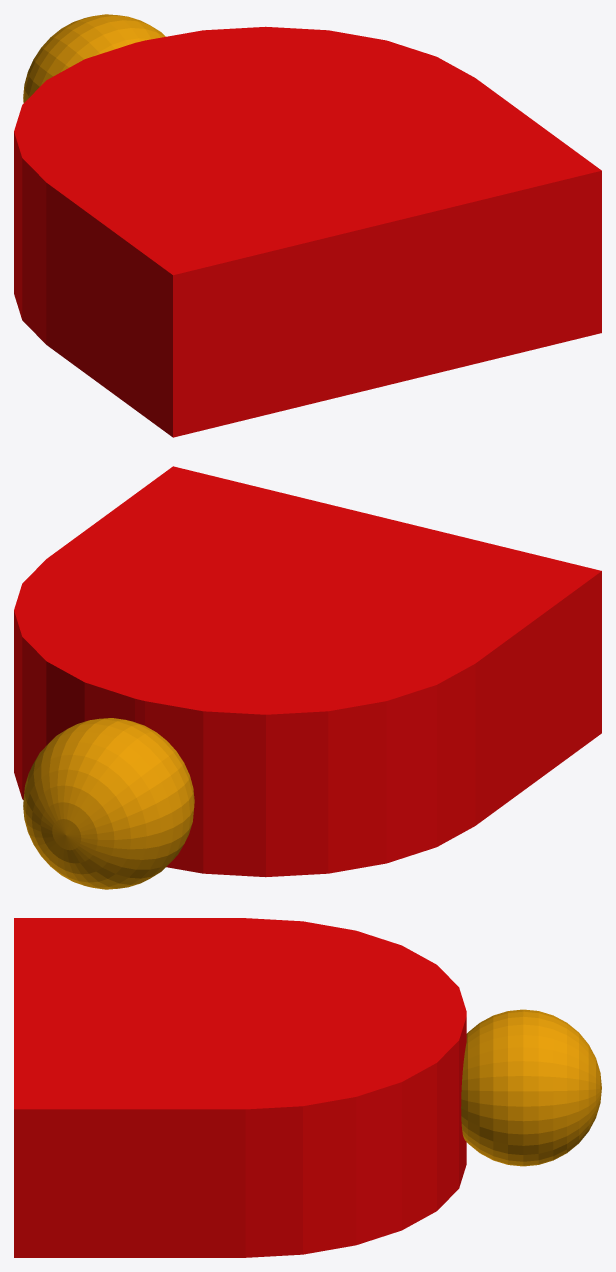
The model's file is nand.fbx.
The picture shows the model from 3 angles, top to bottom: view 1: azimuth 30°, elevation 25°; view 2: azimuth 150°, elevation 25°; view 3: azimuth 270°, elevation 25°; orthographic projection. The views are drawn at different scales.
Visible parts, largest first — view 1: Sphere; view 2: Sphere; view 3: Sphere.
Boxes of the visible parts, x1,y1,x2,y2 form: Sphere: (14, 14, 601, 437); Sphere: (14, 466, 601, 889); Sphere: (14, 918, 601, 1257).
Bounding box in the file's own units: 200 × 72.36 × 260.
